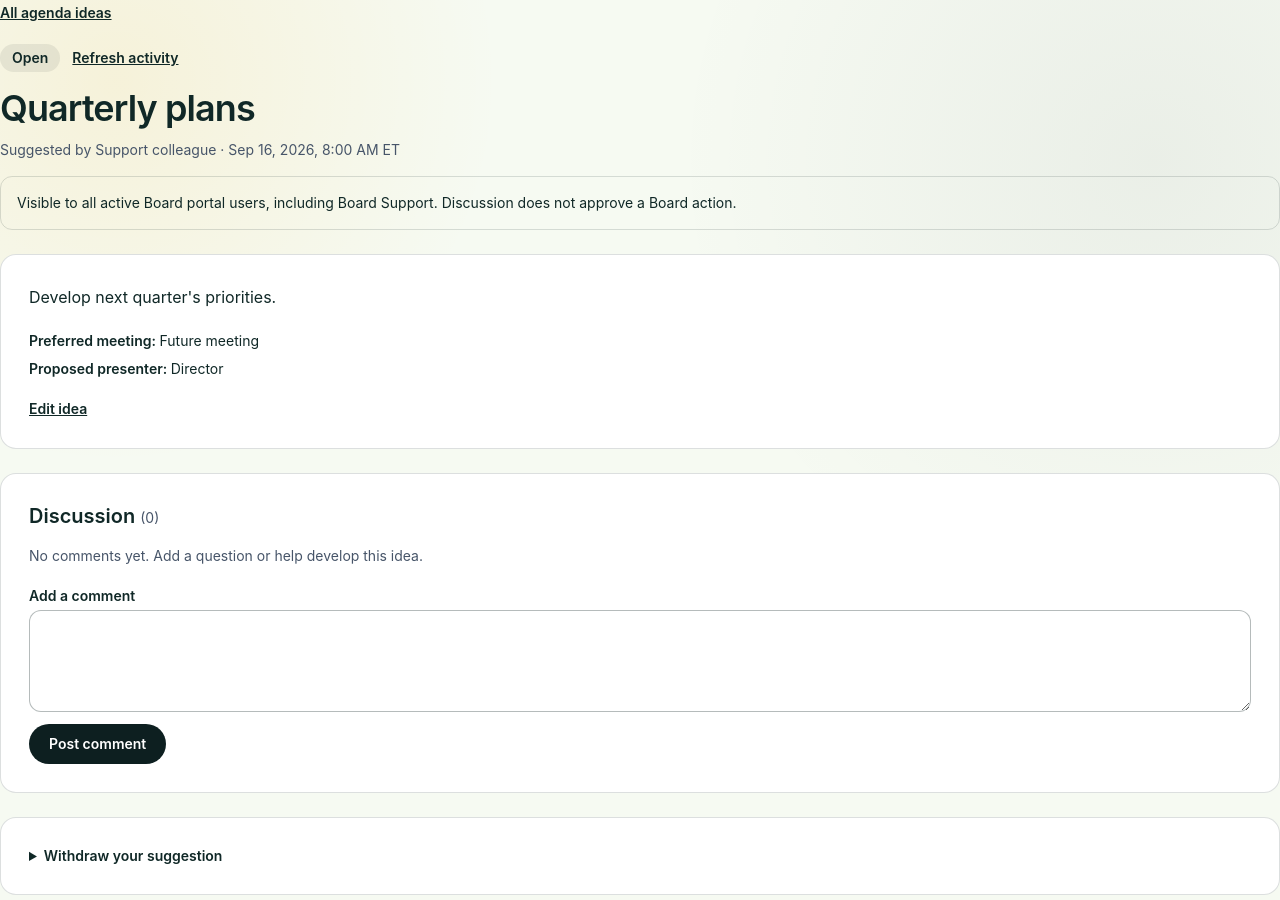
Agenda idea workspace › preserves the draft and explains a concurrent-write rejection
This screenshot has width=1280, height=900.
Type "Keep my draft" into the text box labelled "Add a comment" at (640, 661), box left=29, top=610, right=1251, bottom=712
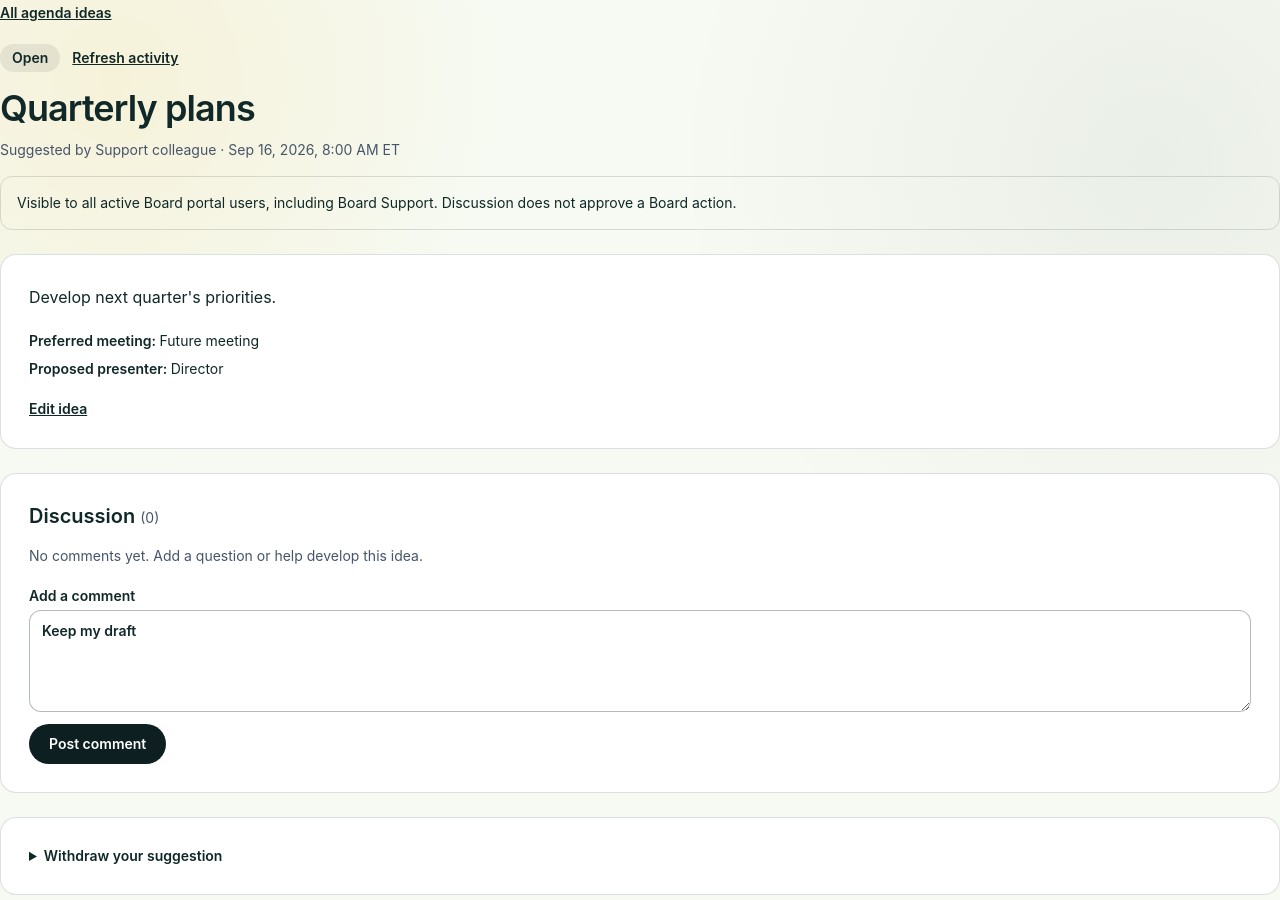
Click the button "Post comment" at (98, 744), box left=29, top=724, right=166, bottom=764
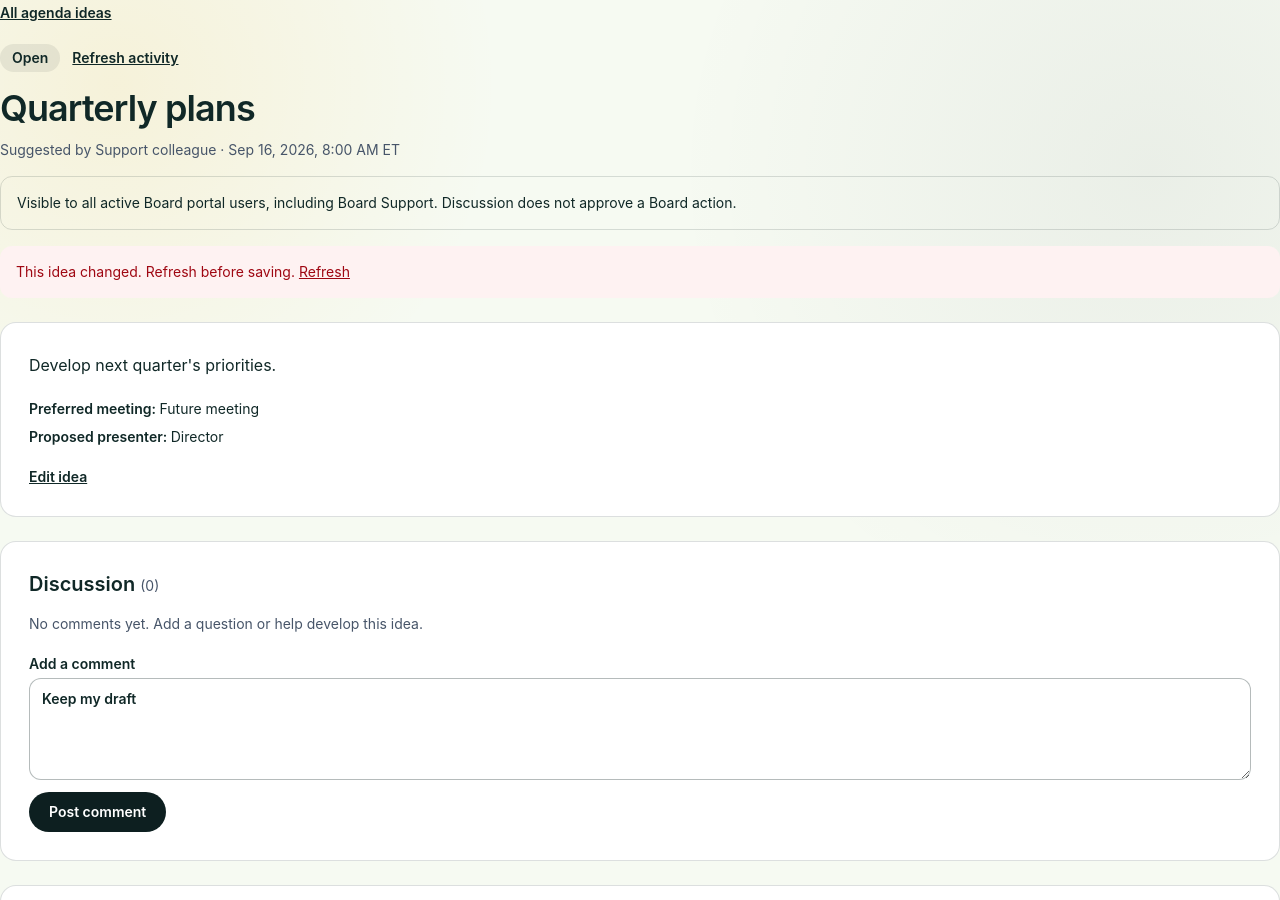
Check: the message shows "This idea changed", box left=16, top=263, right=295, bottom=280
